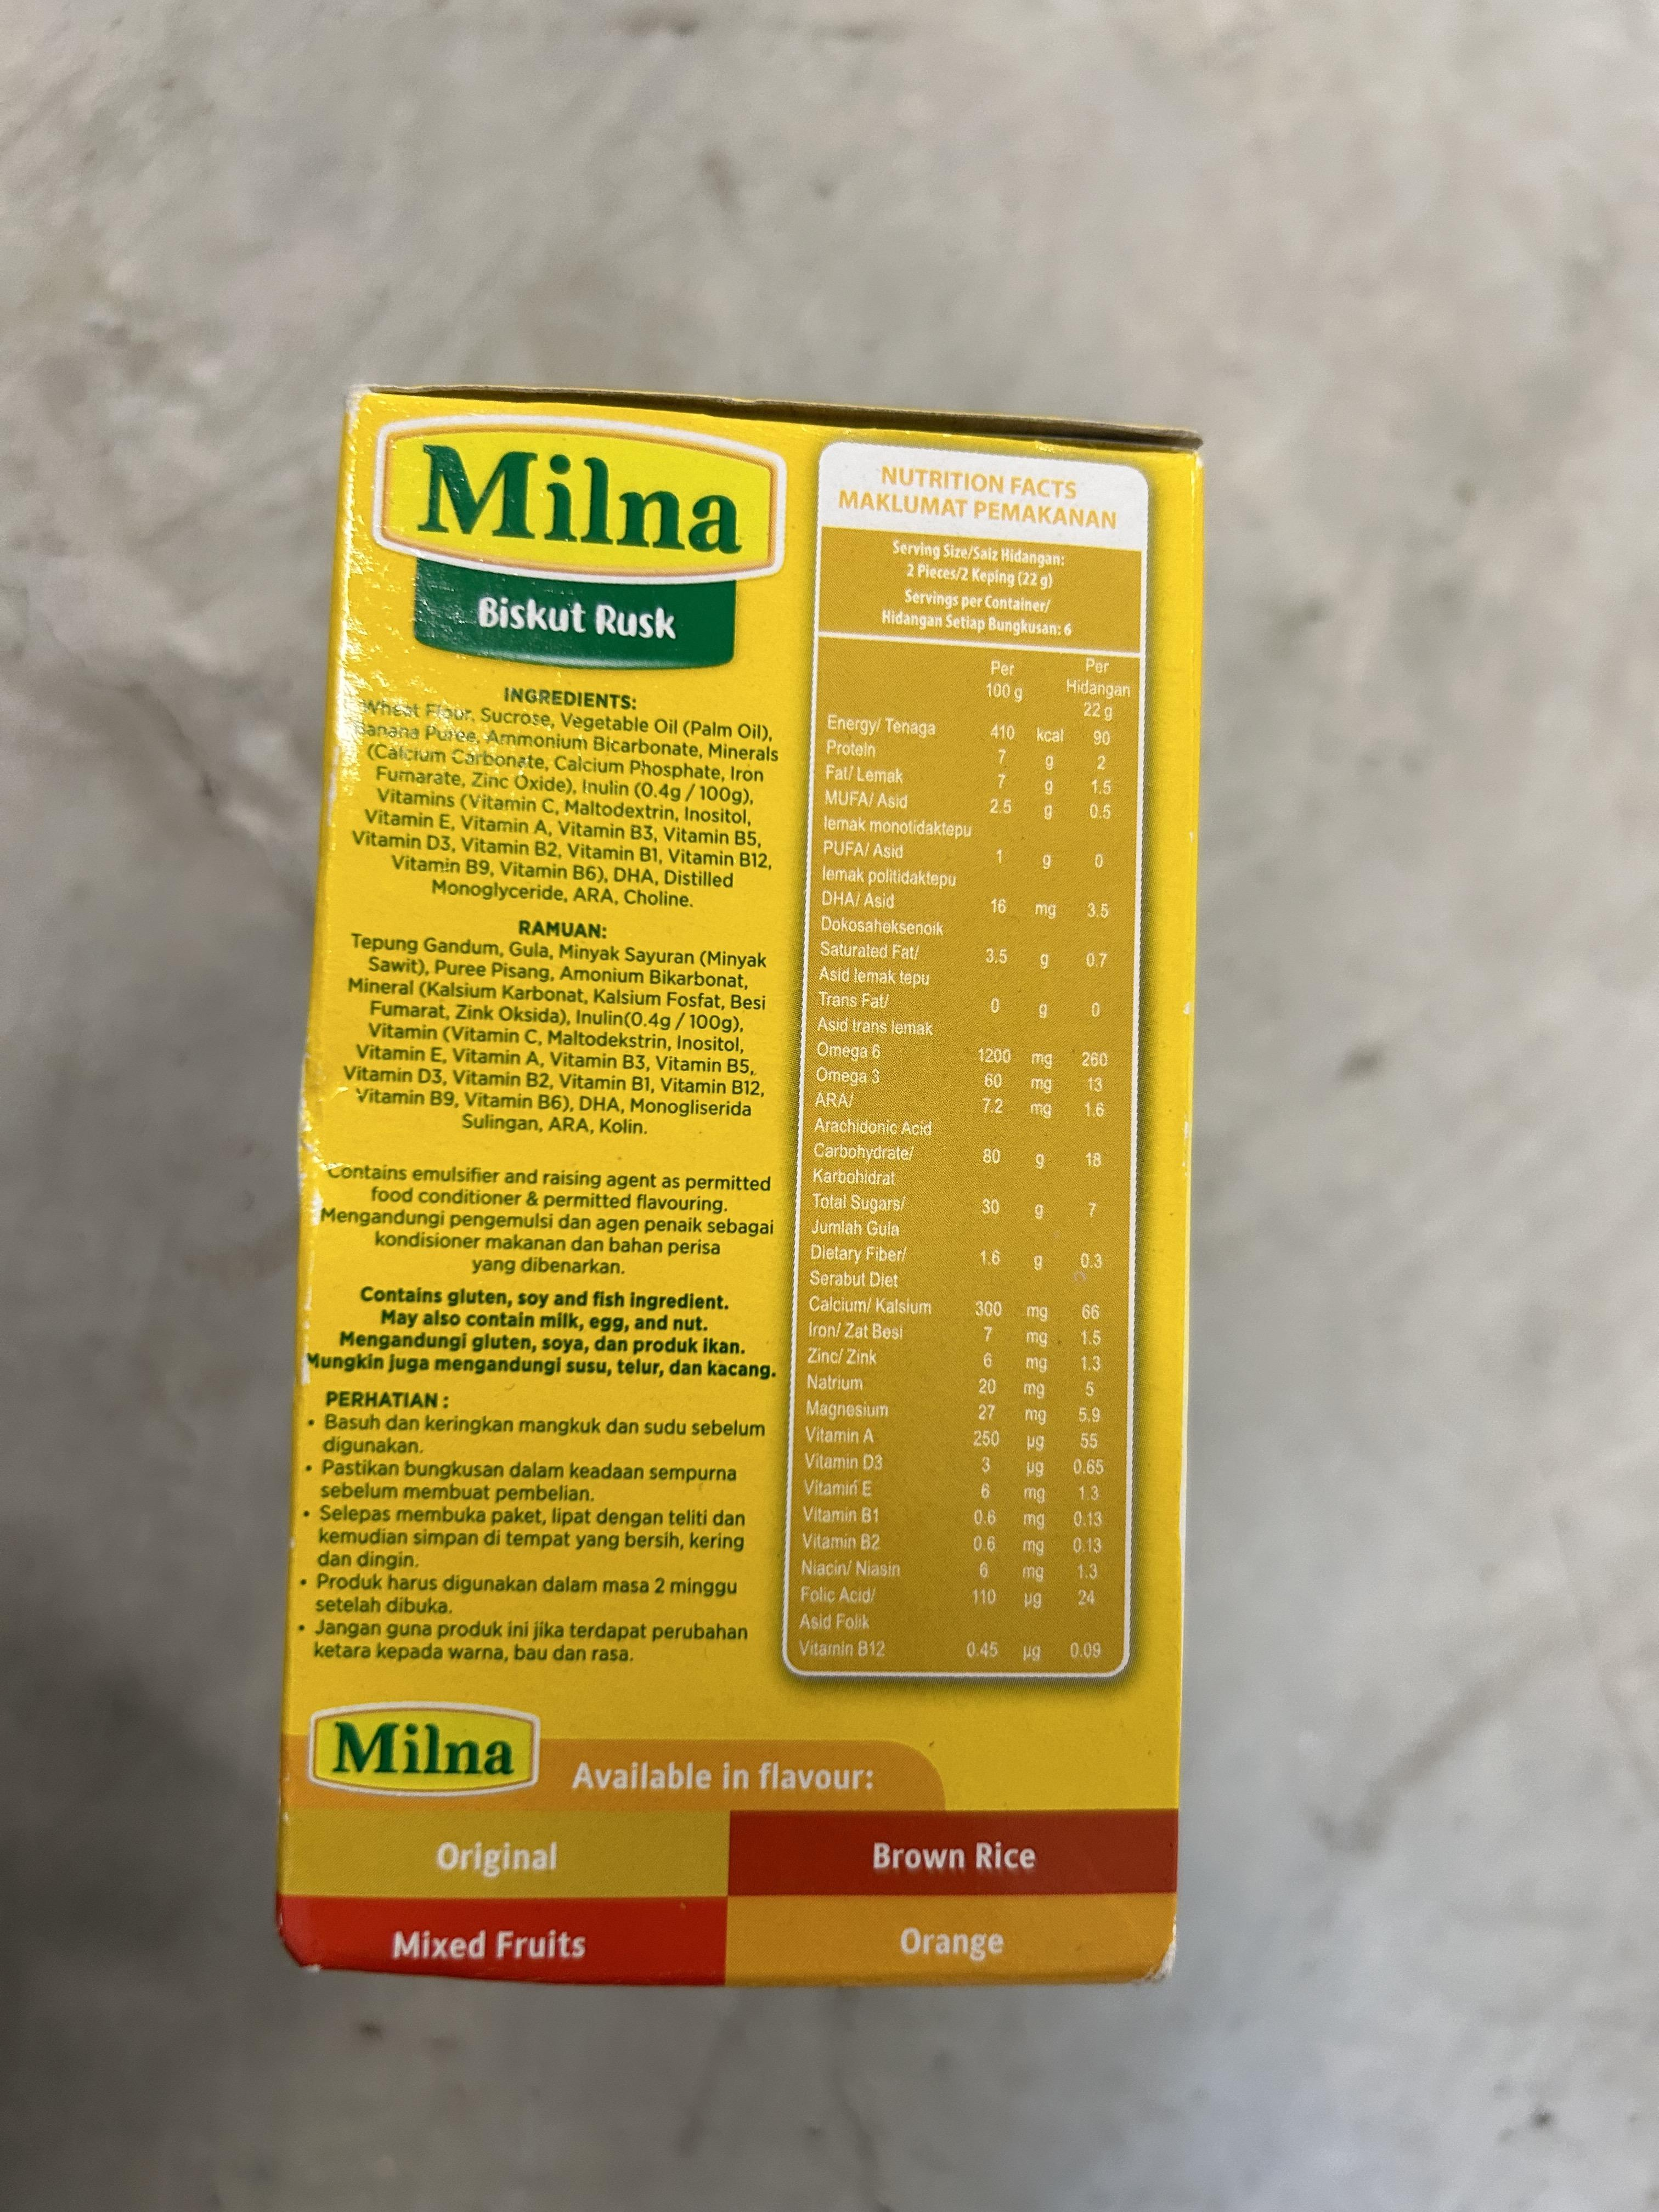object_name: (357, 406, 1119, 1935)
